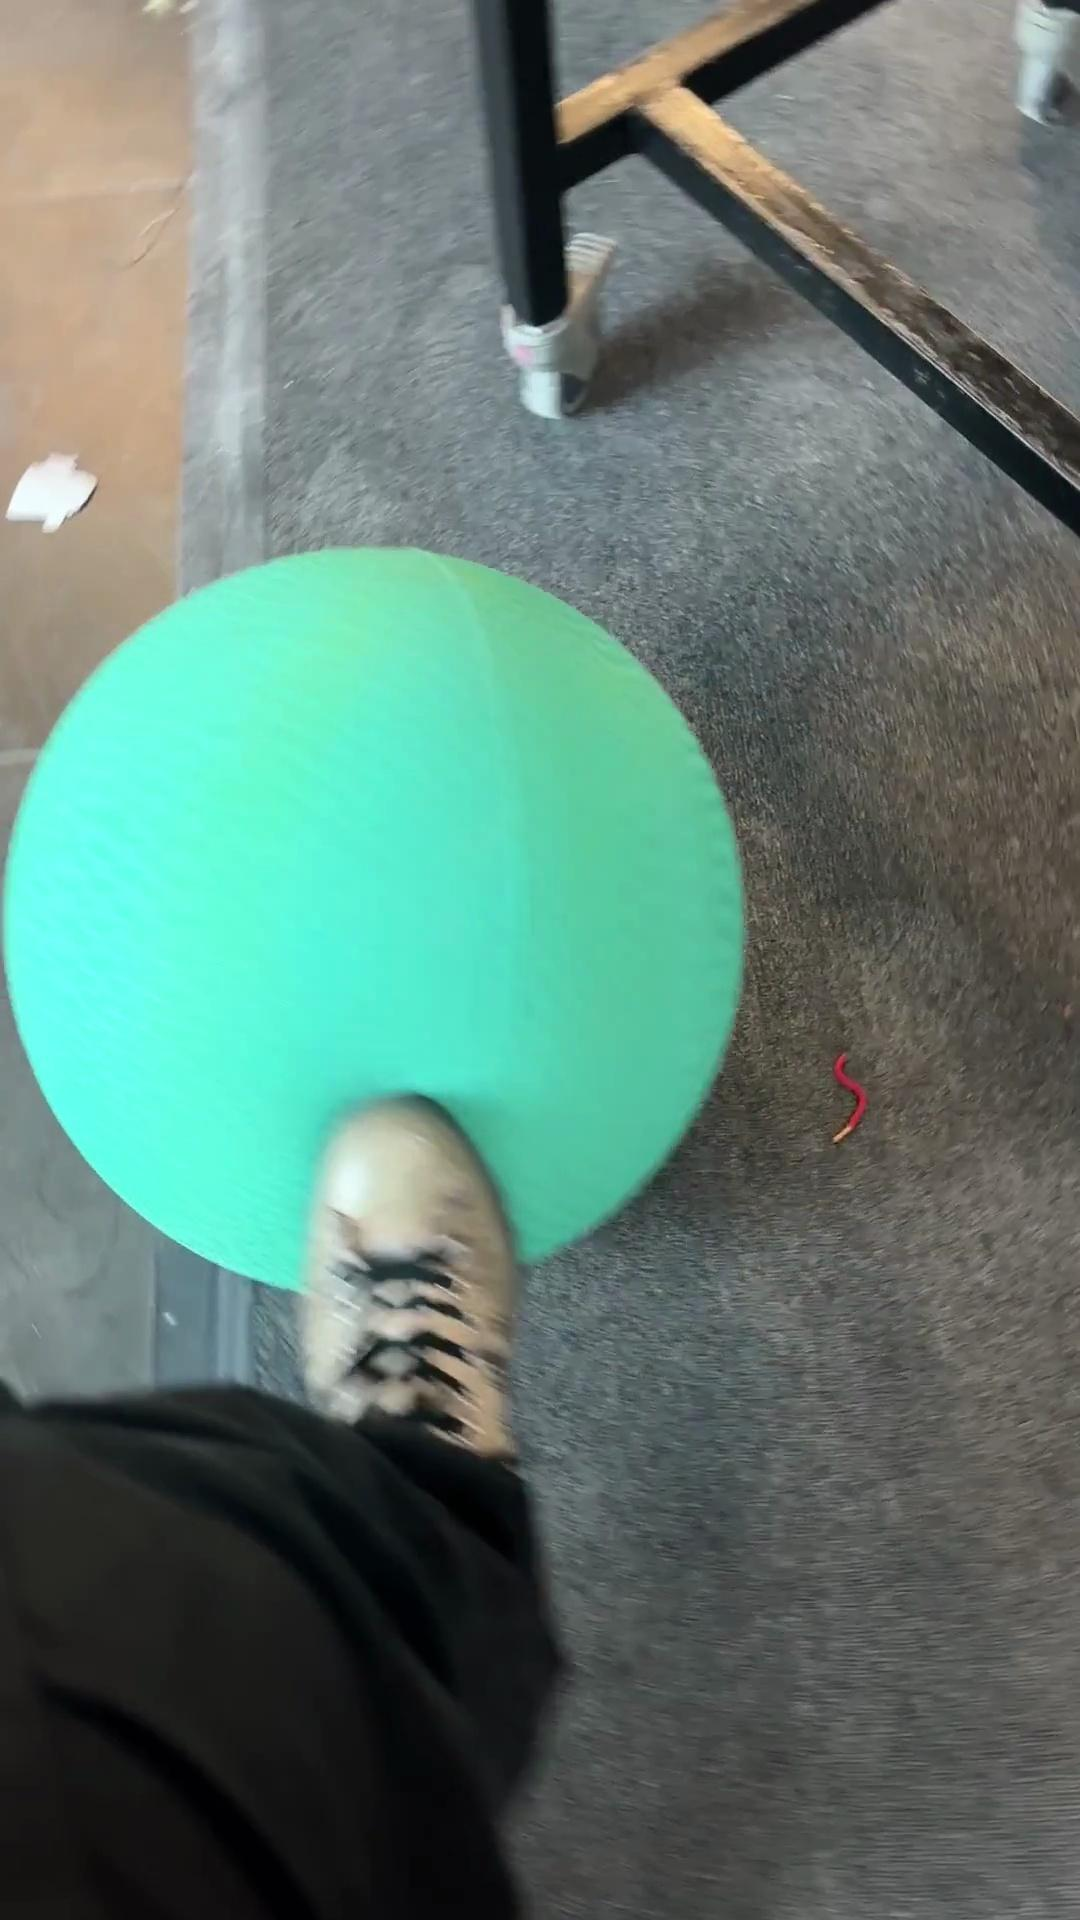ALGAE: (3, 542, 748, 1296)
